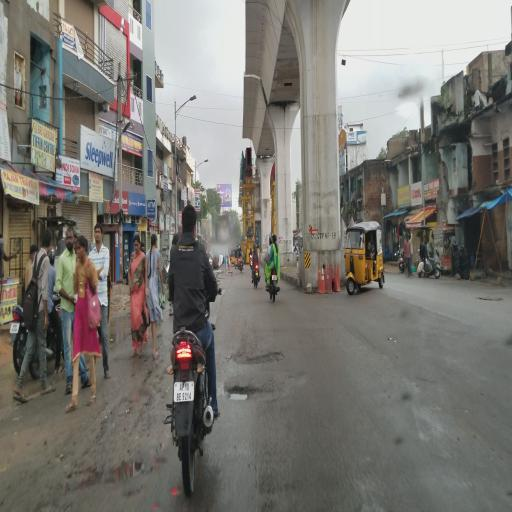street_light_0: (175, 90, 201, 116), (194, 155, 210, 171)
